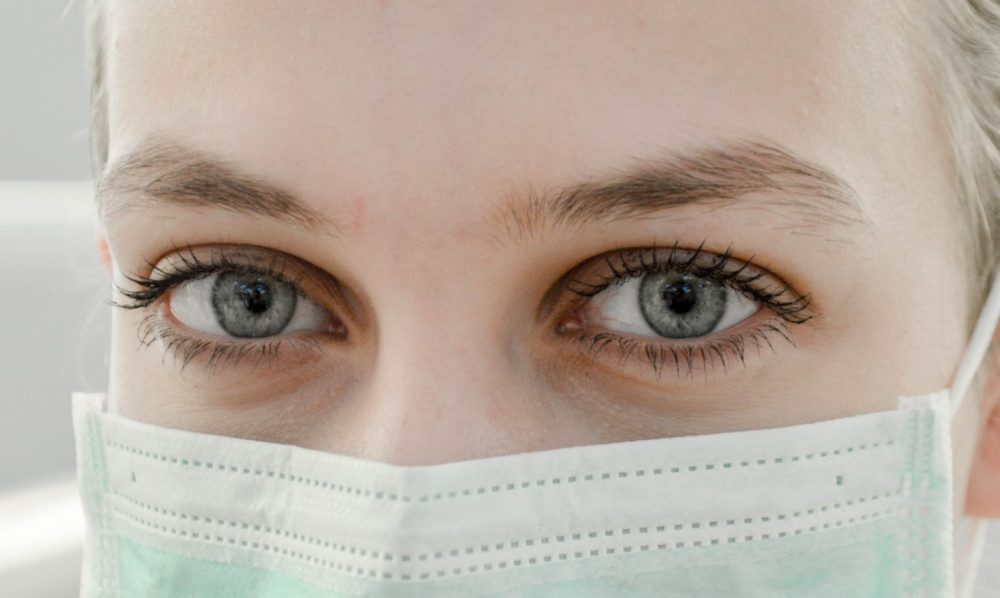with_mask: (47, 3, 981, 598)
